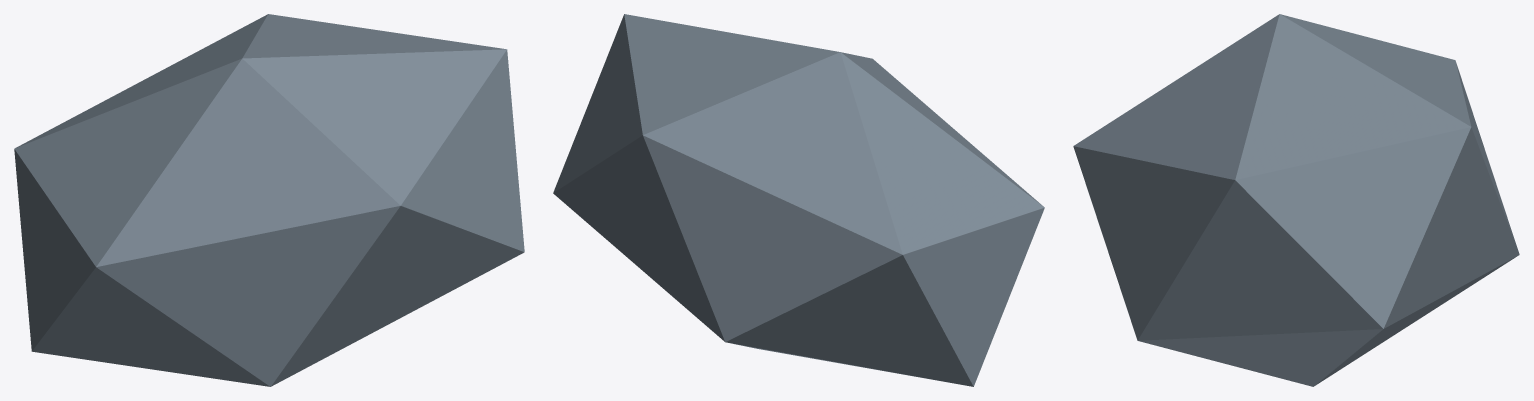
The model's file is INT_AB_RubbleSouth_00_Stone_1.glb.
3 renders of one model, left to right at view 1: azimuth 30°, elevation 25°; view 2: azimuth 150°, elevation 25°; view 3: azimuth 270°, elevation 25°, orthographic. The views are drawn at different scales.
Parts seen in each view (by area): view 1: INT_AB_RubbleSouth_00_Stone_1; view 2: INT_AB_RubbleSouth_00_Stone_1; view 3: INT_AB_RubbleSouth_00_Stone_1.
Part boxes in pixels (x1,y1,x2,y2): INT_AB_RubbleSouth_00_Stone_1: (14, 14, 524, 386); INT_AB_RubbleSouth_00_Stone_1: (553, 14, 1044, 386); INT_AB_RubbleSouth_00_Stone_1: (1073, 14, 1519, 386).
Bounding box in the file's own units: 0.2778 × 0.194 × 0.2334.
